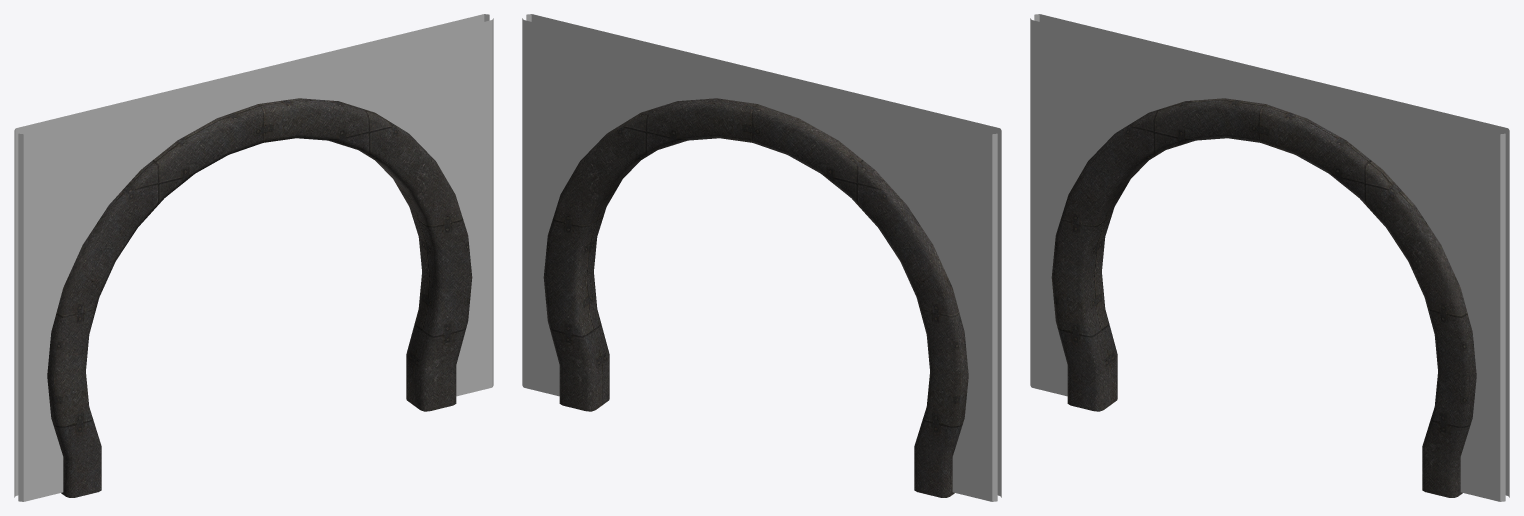
The model's file is tunnel_hole_2.fbx.
3 renders of one model, left to right at view 1: azimuth 30°, elevation 25°; view 2: azimuth 150°, elevation 25°; view 3: azimuth 330°, elevation 25°, orthographic.
Visible parts, largest first — view 1: tunnel_hole_2; view 2: tunnel_hole_2; view 3: tunnel_hole_2.
Part boxes in pixels (<box>): tunnel_hole_2: <box>14,14,493,501</box>; tunnel_hole_2: <box>522,14,1001,501</box>; tunnel_hole_2: <box>1030,14,1509,501</box>.
Size of the model in its own units: 4.06 by 0.3 by 3.02.
